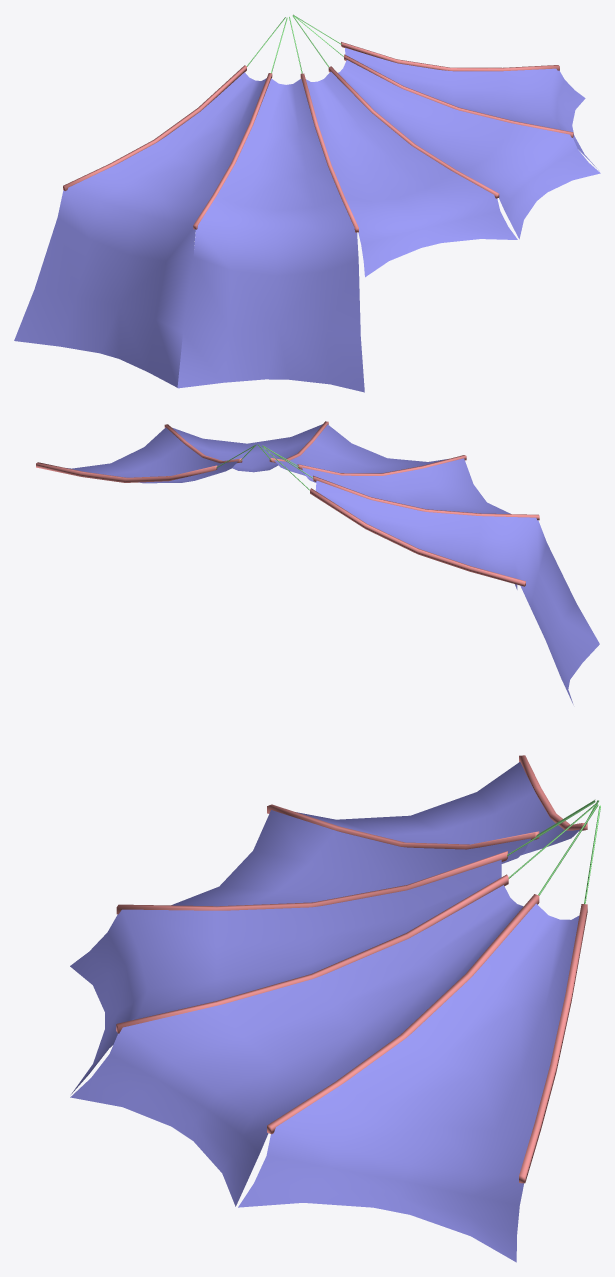
File: L2fortress_02_s__Fort02_medic_cap.gltf
The picture shows the model from 3 angles, top to bottom: view 1: azimuth 30°, elevation 25°; view 2: azimuth 150°, elevation 25°; view 3: azimuth 270°, elevation 25°; orthographic projection. The views are drawn at different scales.
Visible parts, largest first — view 1: Fort02_medic_cap; view 2: Fort02_medic_cap; view 3: Fort02_medic_cap.
Part boxes in pixels (bbox=[...]): Fort02_medic_cap: bbox=[14, 14, 600, 392]; Fort02_medic_cap: bbox=[36, 421, 599, 704]; Fort02_medic_cap: bbox=[70, 755, 600, 1262].
Bounding box in the file's own units: 10.32 × 3.97 × 5.24.
